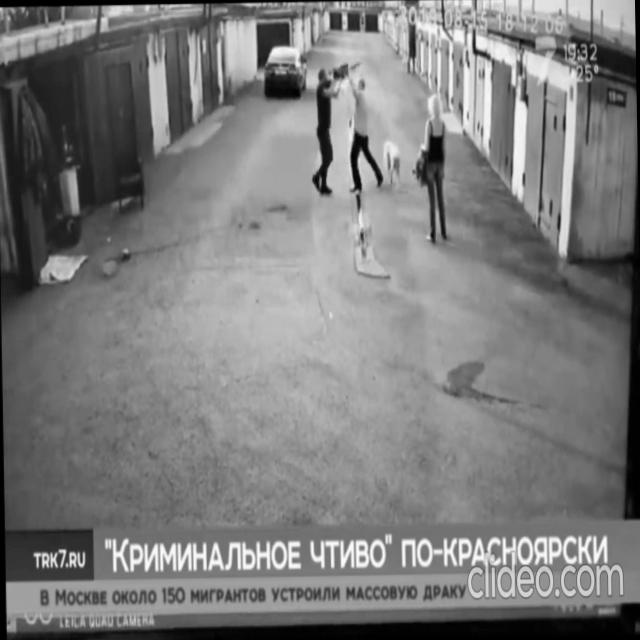gun: (326, 56, 363, 90)
person: (414, 92, 450, 246)
person with a gun: (308, 56, 366, 195)
